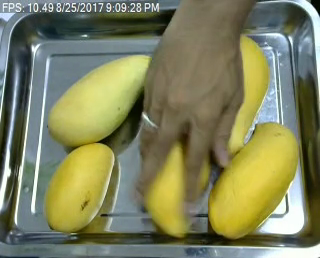Mango: (208, 120, 302, 238), (48, 54, 152, 144), (43, 143, 116, 234), (224, 35, 269, 147), (143, 143, 189, 236)
